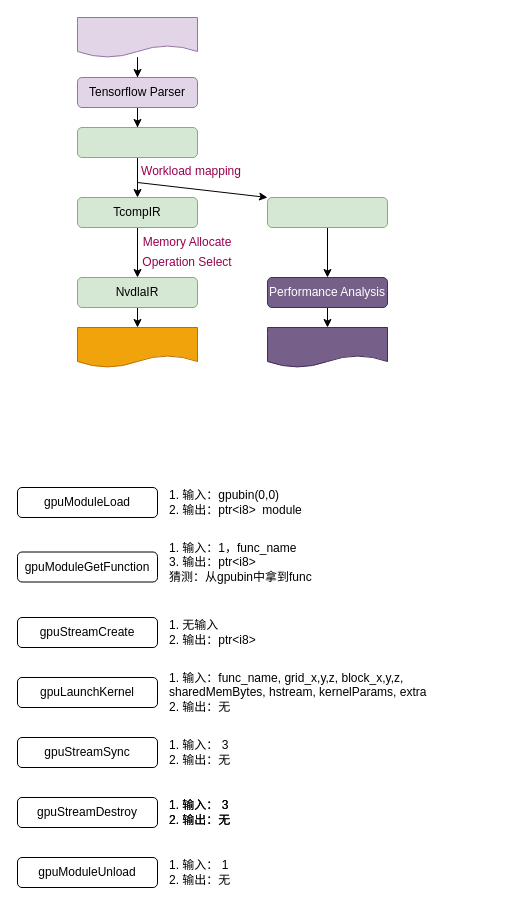
This 505x905 diagram has some shape labels left out. The shapes that lost their labels are listed below. From the top down, each one's centre as x and y in pixels, then its label:
point 137,37: Tensorflow Compute expression
point 137,142: TF Dialect
point 327,212: HADL/LADL ScheduleIR
point 137,347: CodeEmit
point 327,347: Performance Report
